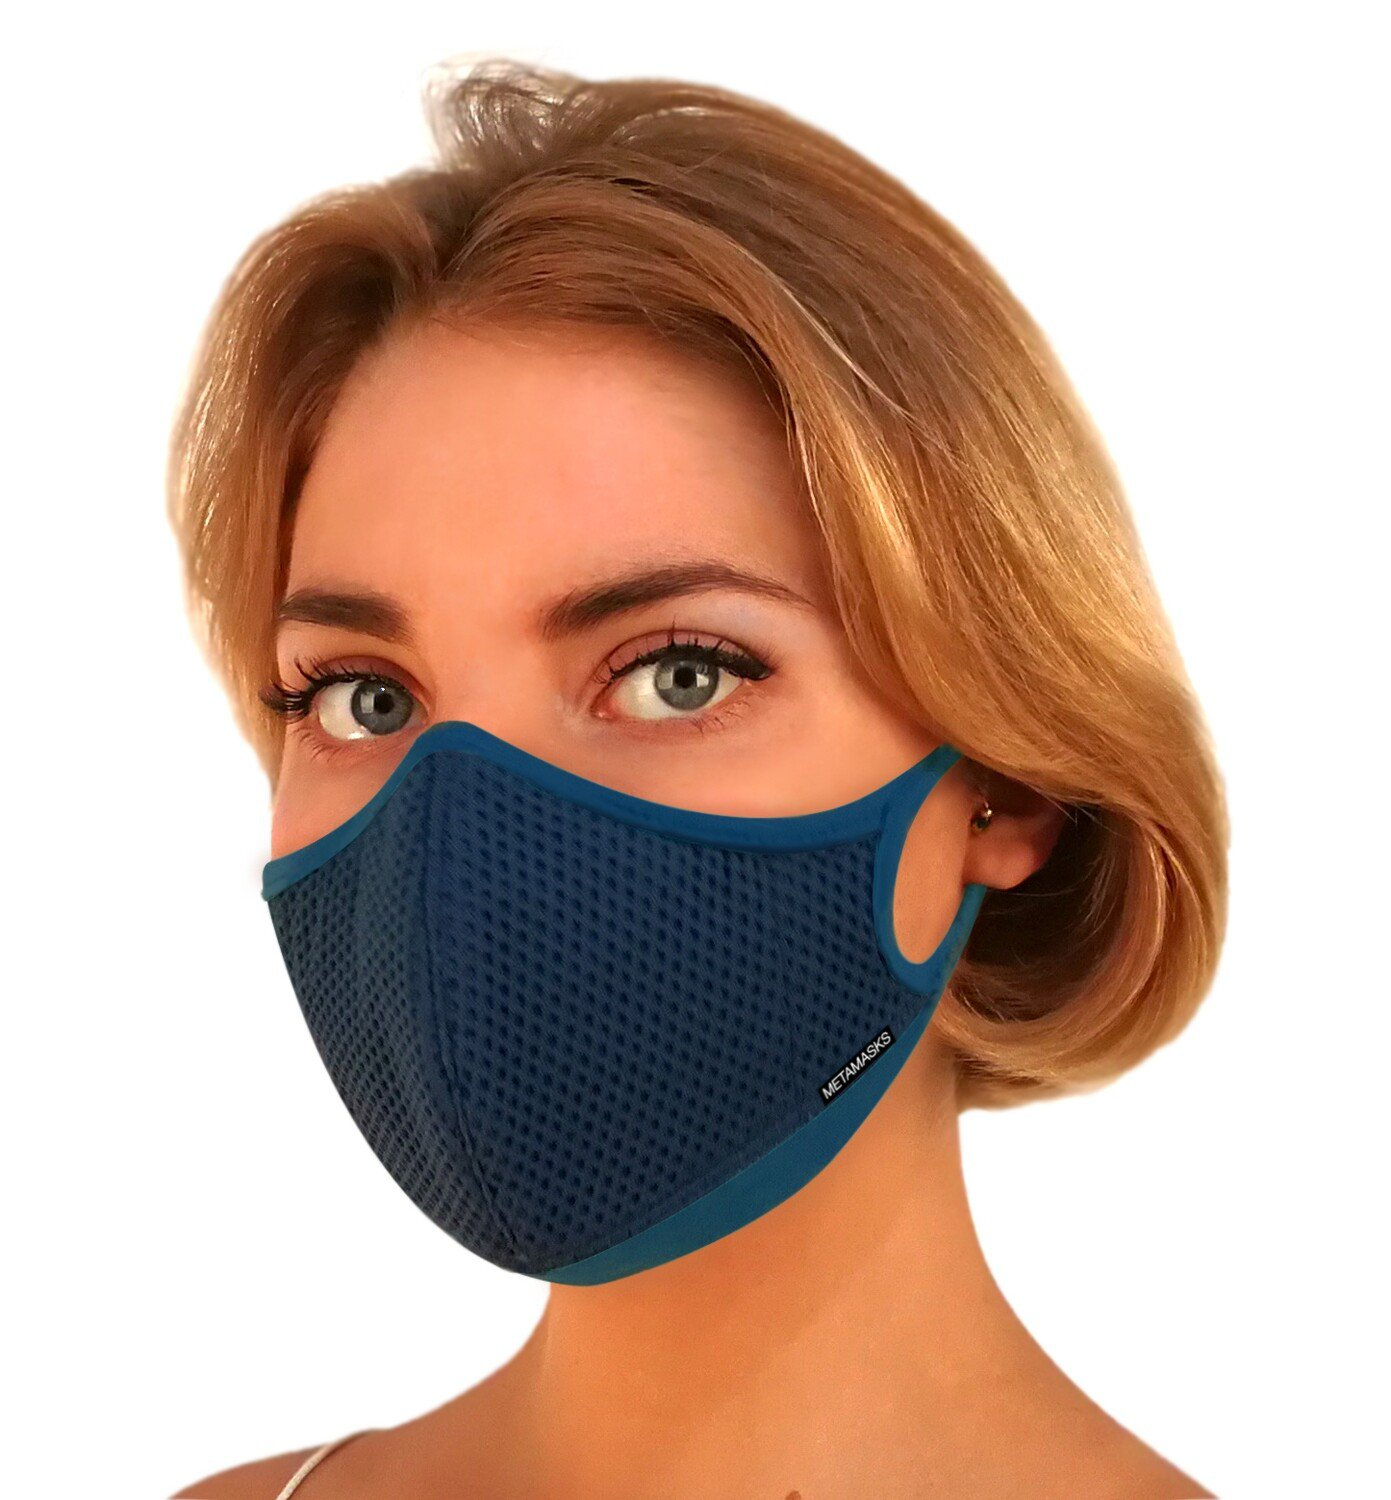mask: (141, 89, 1246, 1310)
